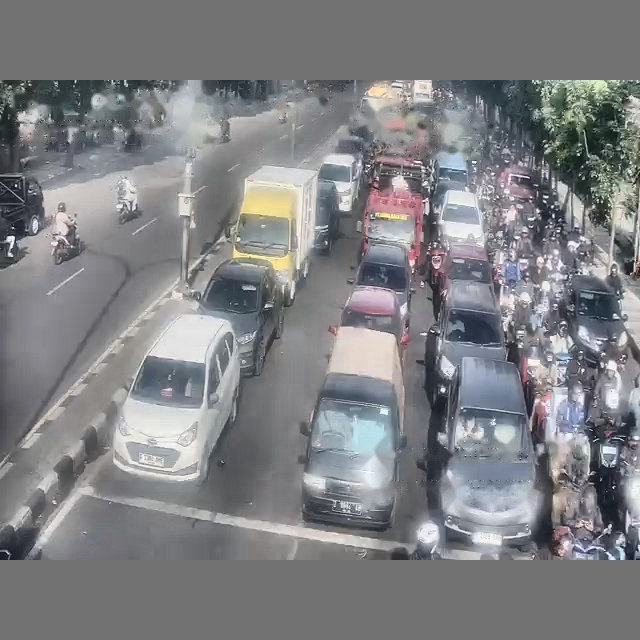Mobil: (426, 357, 542, 550), (113, 314, 240, 483), (300, 327, 406, 529), (424, 281, 506, 407), (196, 258, 284, 375), (563, 275, 628, 365), (347, 243, 412, 322), (329, 286, 408, 346), (433, 242, 494, 317), (0, 173, 44, 235), (438, 190, 485, 244), (318, 153, 360, 212), (314, 180, 339, 254), (500, 165, 535, 203), (336, 136, 366, 176), (317, 179, 338, 212)
Motor: (50, 226, 81, 265), (116, 198, 140, 223), (220, 118, 230, 142)
Truk: (232, 166, 317, 305)
